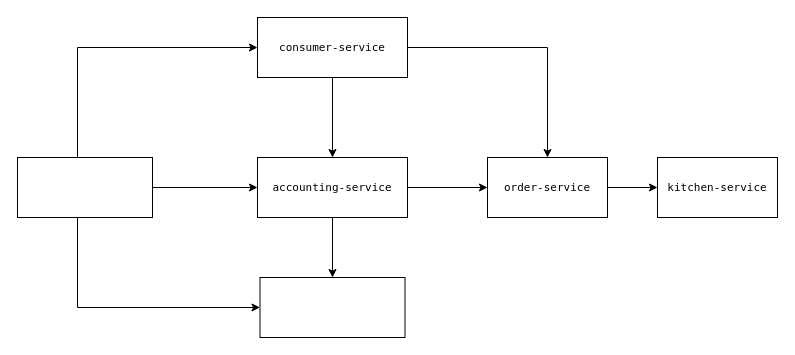
This 795x355 diagram has some shape labels left out. The box of each missing label's shape, as (x1, y1, x2, y2) in pixels:
delivery-service: (259, 276, 405, 338)
gateway-service: (16, 156, 152, 218)
